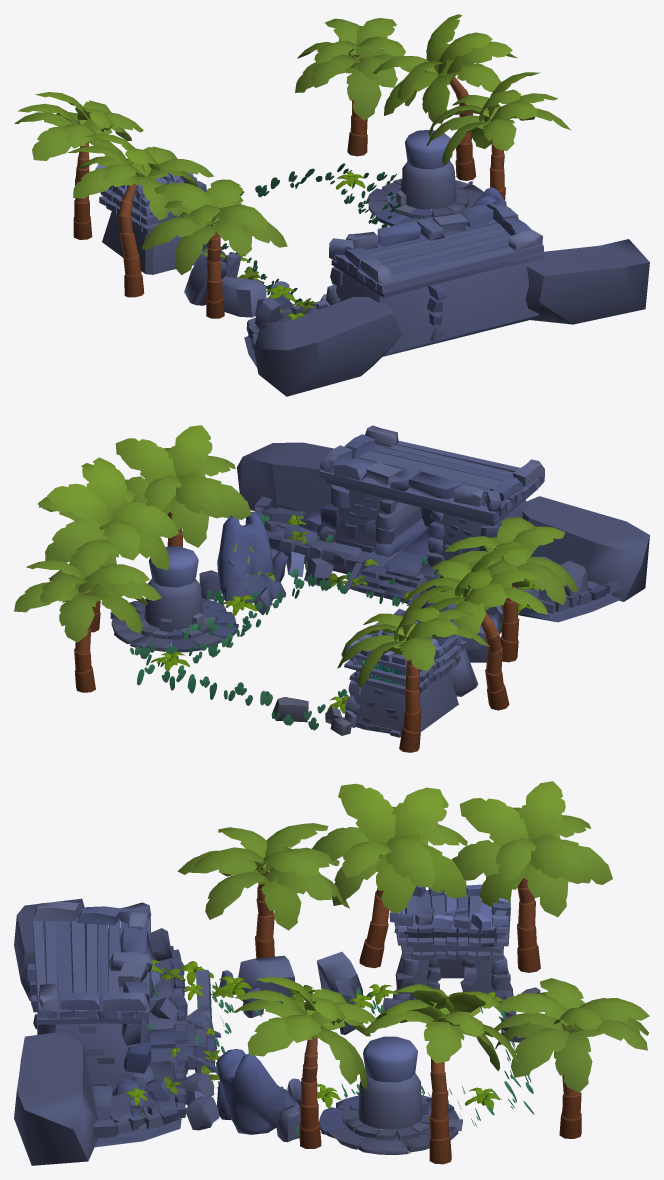
3 renders of one model, top to bottom at view 1: azimuth 30°, elevation 25°; view 2: azimuth 150°, elevation 25°; view 3: azimuth 270°, elevation 25°, orthographic. The views are drawn at different scales.
Parts seen in each view (by area): view 1: Map06_Environment; view 2: Map06_Environment; view 3: Map06_Environment.
Boxes of the visible parts, x1,y1,x2,y2 form: Map06_Environment: (14,14,649,396); Map06_Environment: (14,425,649,752); Map06_Environment: (14,781,649,1165).
Size of the model in its own units: 41.91 by 15.33 by 42.73.
1 material, 1 textured.
